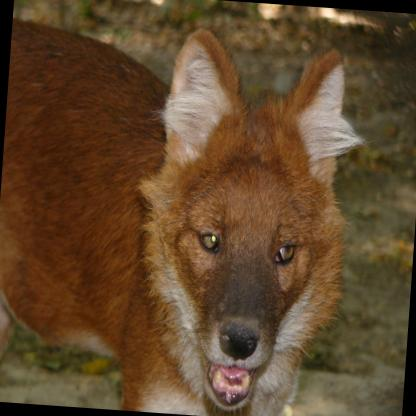dhole: (0, 15, 381, 416)
